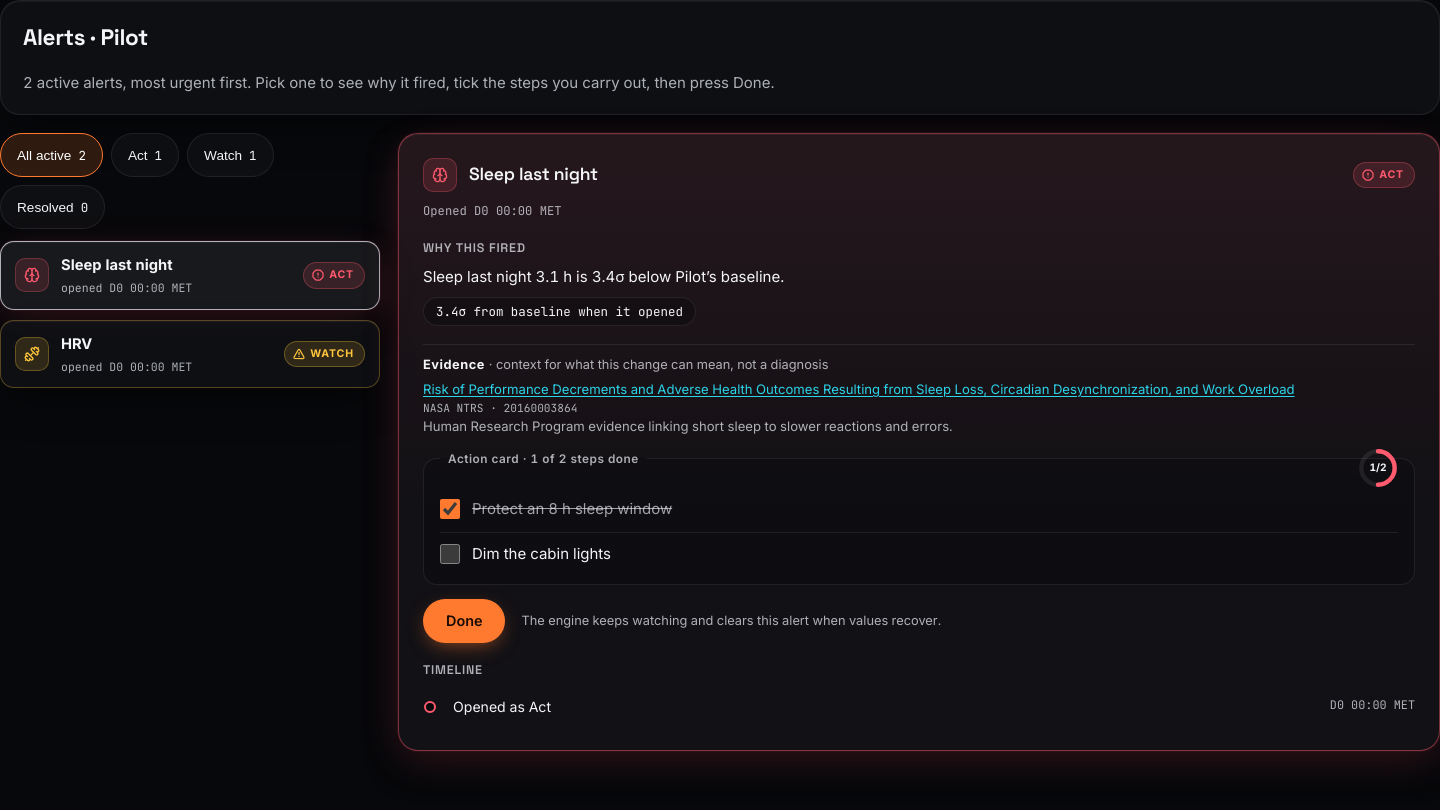
Scenario: picks another alert from the list and reports the selection
Click the button "HRV opened D0 00:00 MET WATCH": (32, 354) [0,320,380,388]
(page scrolled)
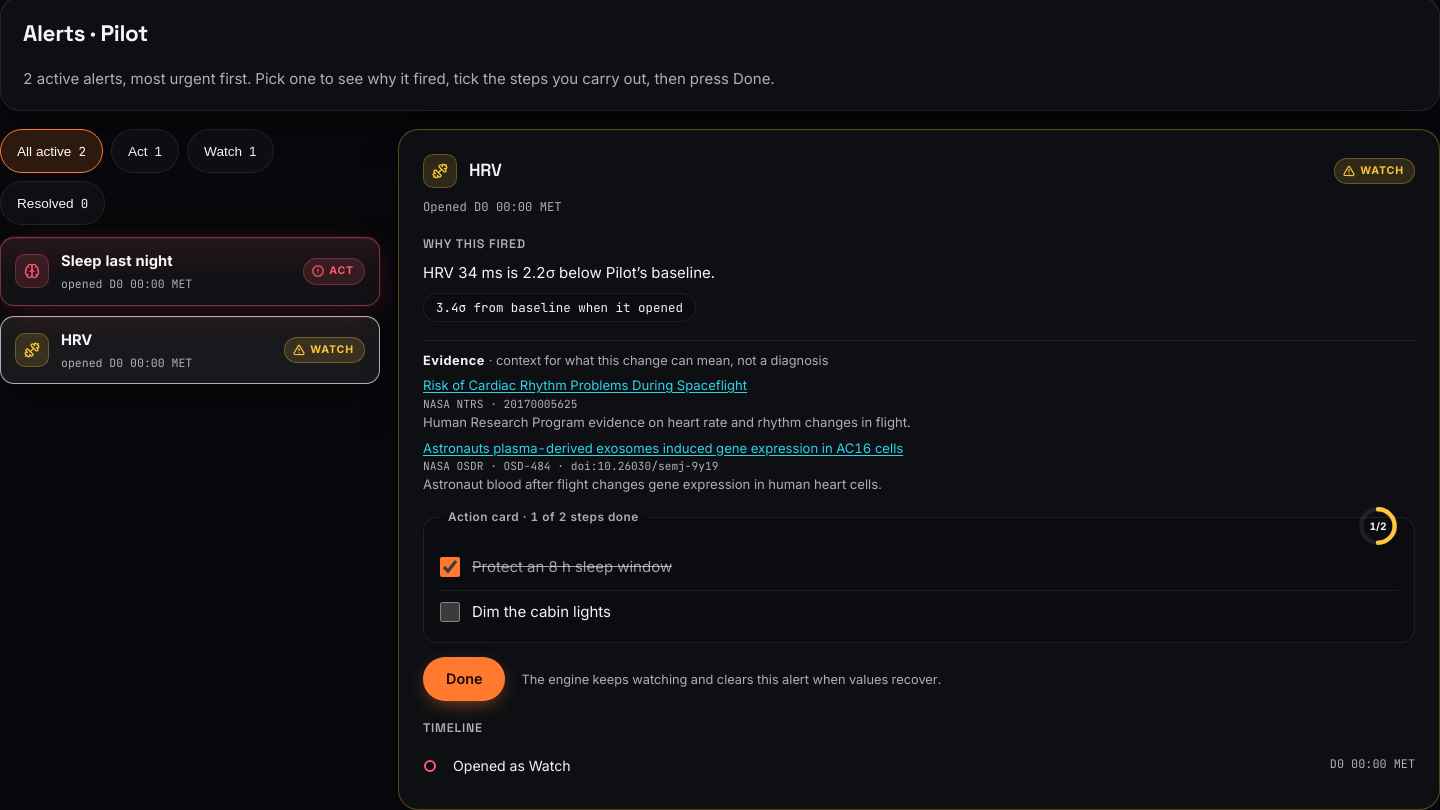
Now the element named "HRV: WATCH" is shown
